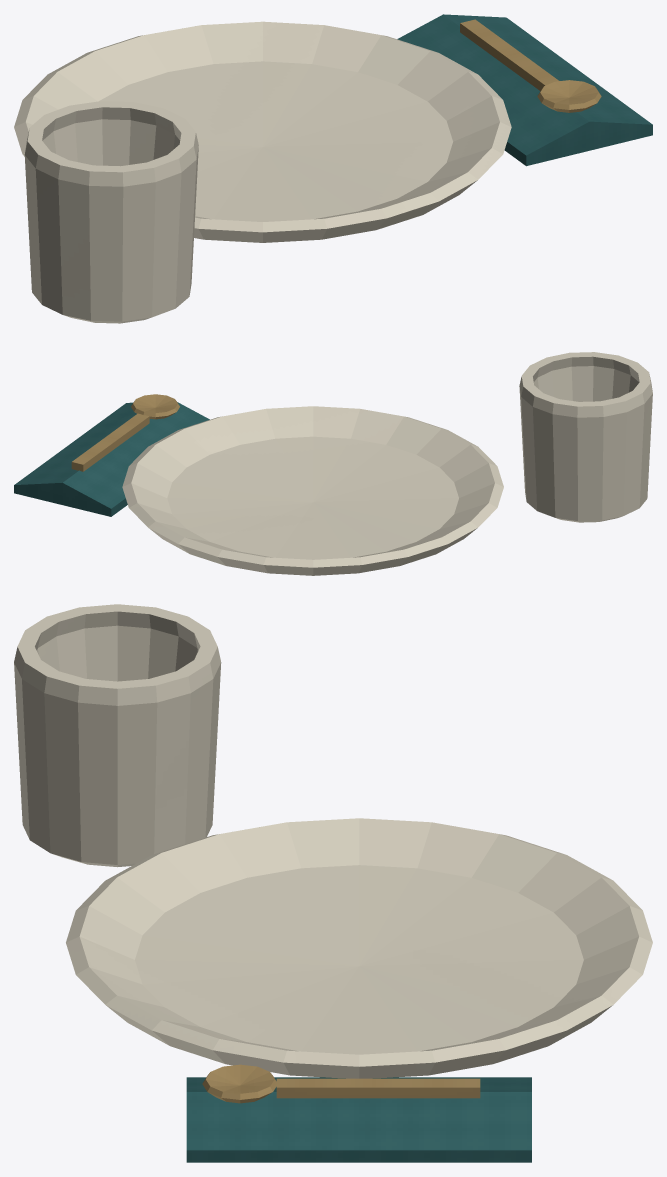
The model's file is AST-DIN-006.glb.
3 views of the same model, one above another, from view 1: azimuth 30°, elevation 25°; view 2: azimuth 150°, elevation 25°; view 3: azimuth 270°, elevation 25° (orthographic). The views are drawn at different scales.
Visible parts, largest first — view 1: DIN_ShallowRimPlate, DIN_OpenGuestCup, DIN_FoldedNapkin, DIN_CutleryHandle, DIN_SpoonBowl; view 2: DIN_ShallowRimPlate, DIN_OpenGuestCup, DIN_FoldedNapkin, DIN_CutleryHandle, DIN_SpoonBowl; view 3: DIN_ShallowRimPlate, DIN_OpenGuestCup, DIN_FoldedNapkin, DIN_CutleryHandle, DIN_SpoonBowl.
Part boxes in pixels (bbox=[...]): DIN_ShallowRimPlate: bbox=[14, 21, 511, 242]; DIN_OpenGuestCup: bbox=[24, 101, 198, 323]; DIN_FoldedNapkin: bbox=[397, 14, 652, 166]; DIN_CutleryHandle: bbox=[460, 19, 559, 90]; DIN_SpoonBowl: bbox=[537, 80, 601, 112]; DIN_ShallowRimPlate: bbox=[122, 406, 503, 575]; DIN_OpenGuestCup: bbox=[519, 352, 652, 522]; DIN_FoldedNapkin: bbox=[14, 402, 209, 516]; DIN_CutleryHandle: bbox=[71, 413, 149, 471]; DIN_SpoonBowl: bbox=[131, 394, 179, 419]; DIN_ShallowRimPlate: bbox=[66, 818, 652, 1078]; DIN_OpenGuestCup: bbox=[14, 604, 221, 867]; DIN_FoldedNapkin: bbox=[186, 1077, 531, 1162]; DIN_CutleryHandle: bbox=[276, 1078, 480, 1098]; DIN_SpoonBowl: bbox=[202, 1064, 277, 1103].
Bounding box in the file's own units: 0.51 × 0.12 × 0.37.
Materials: 3 (3 with a texture image).
